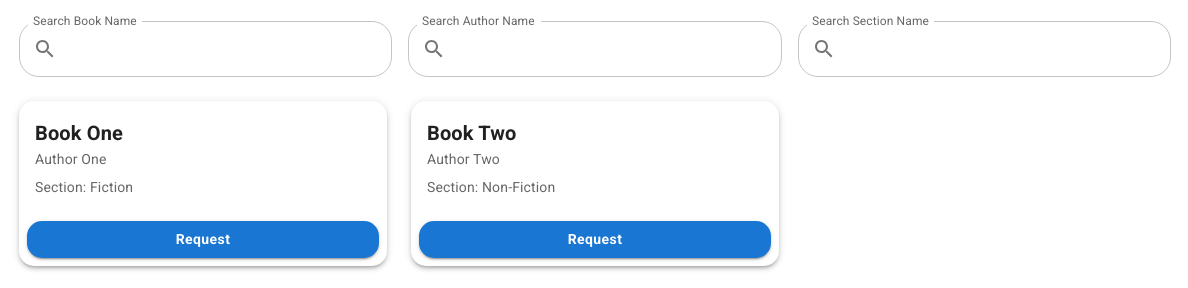
Test: AvailableBooks Component › should search books by author
Expected: the text "Book One" is shown, [35,121,123,145]
Type "Author Two" into the field labelled "Search Author Name". click: (618, 49)
box: [454,21,782,77]
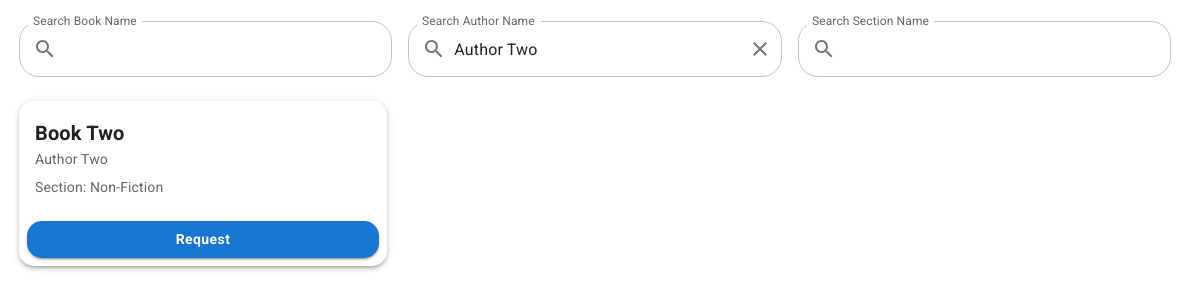
Expected: the text "Book Two" is shown, [35,121,125,145]
Result: the text "Book One" is gone
